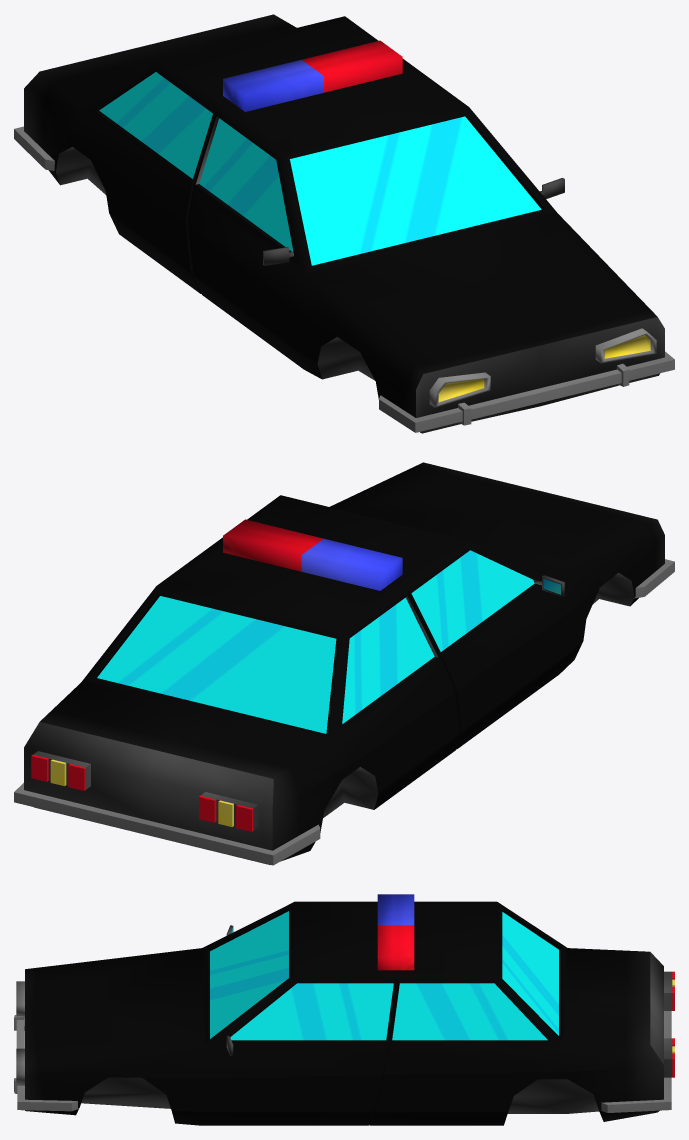
Rendered from police_car_1.fbx.
3 views of the same model, one above another, from view 1: azimuth 30°, elevation 25°; view 2: azimuth 150°, elevation 25°; view 3: azimuth 270°, elevation 25° (orthographic). The views are drawn at different scales.
Visible parts, largest first — view 1: police_car_1; view 2: police_car_1; view 3: police_car_1.
Boxes of the visible parts, <box> form: police_car_1: <box>14,14,674,433</box>; police_car_1: <box>14,462,674,865</box>; police_car_1: <box>14,894,674,1125</box>.
Bounding box in the file's own units: 246 × 145 × 575.
Materials: 2 (2 with a texture image).
